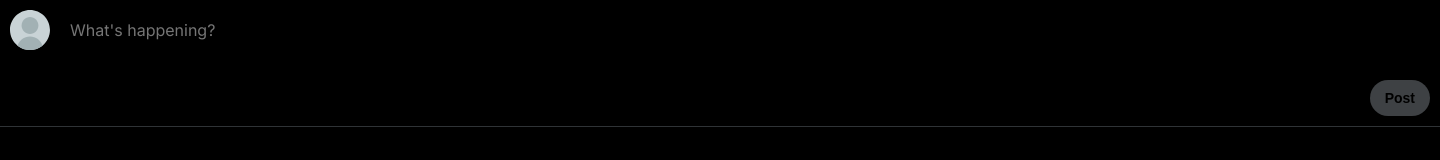
PostComposer › should add a new post and clear the textarea when submitted
Type "Hello world!" into the text box with placeholder "What's happening?" at (745, 40), box [60,10,1430,70]
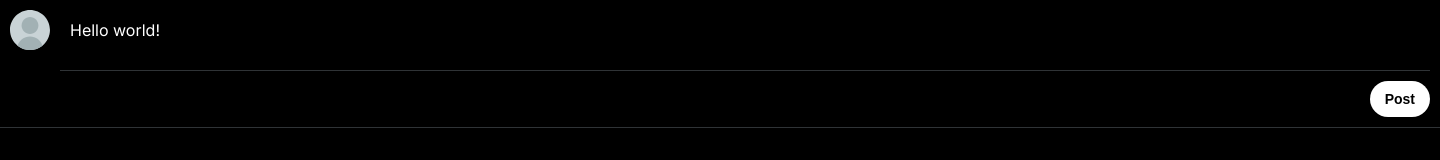
Click the button "Post" at (1400, 99), box [1370,81,1430,117]
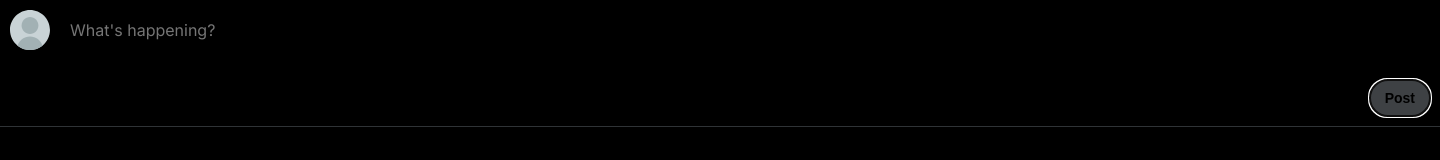
Expected: the text box with placeholder "What's happening?" is empty, [60,10,1430,70]
